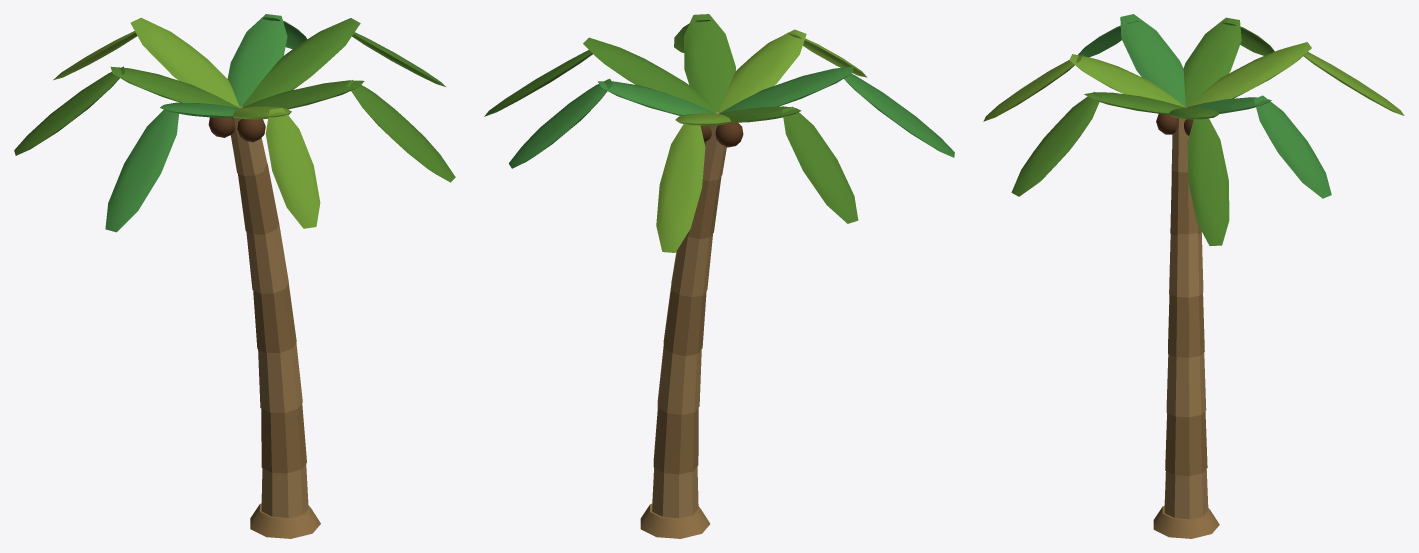
Rendered from p_tree_palm_2.glb.
3 renders of one model, left to right at view 1: azimuth 30°, elevation 25°; view 2: azimuth 150°, elevation 25°; view 3: azimuth 270°, elevation 25°, orthographic. The views are drawn at different scales.
Parts seen in each view (by area): view 1: body; view 2: body; view 3: body.
Boxes of the visible parts, x1=… form: body: x1=14, y1=14, x2=455, y2=538; body: x1=484, y1=14, x2=954, y2=538; body: x1=983, y1=14, x2=1404, y2=538.
Size of the model in its own units: 6.41 by 7.2 by 6.19.
